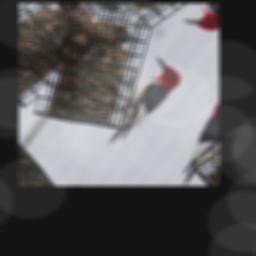Woodpecker: (87, 51, 188, 156)
